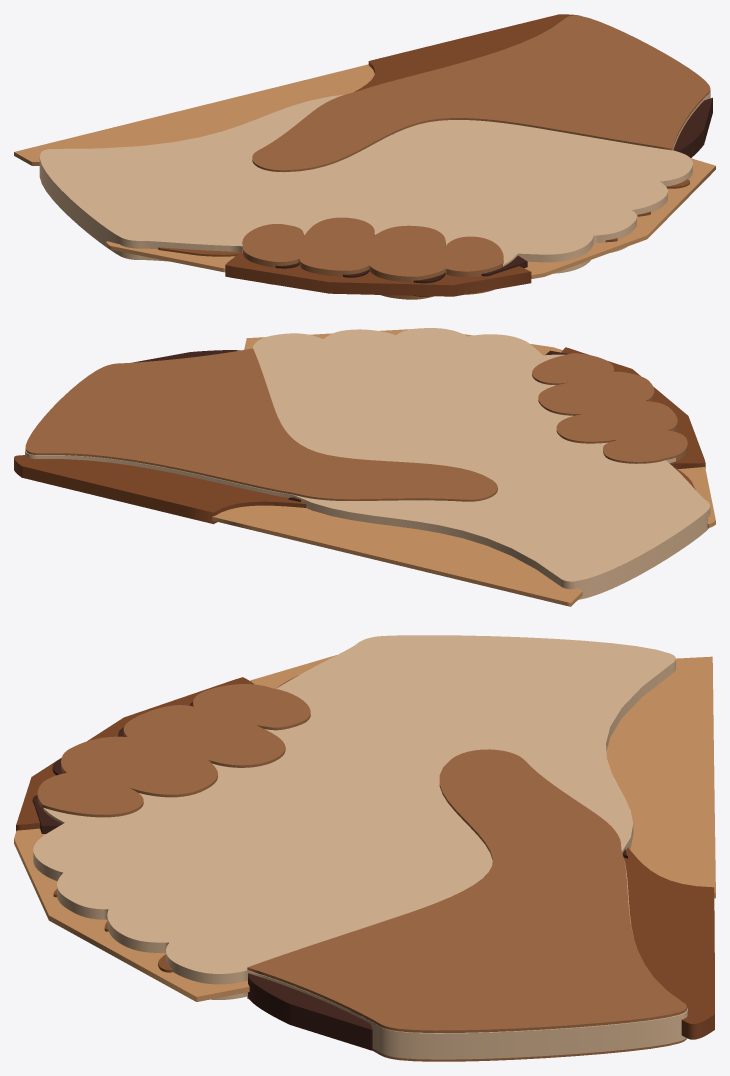
Rendered from emoji_u1faf1_1f3fc_200d_1faf2_1f3fe.glb.
3 renders of one model, top to bottom at view 1: azimuth 30°, elevation 25°; view 2: azimuth 150°, elevation 25°; view 3: azimuth 270°, elevation 25°, orthographic. The views are drawn at different scales.
Parts seen in each view (by area): view 1: emoji_u1faf1_1f3fc_200d_1faf2_1f3fe; view 2: emoji_u1faf1_1f3fc_200d_1faf2_1f3fe; view 3: emoji_u1faf1_1f3fc_200d_1faf2_1f3fe.
Part boxes in pixels (x1=…): emoji_u1faf1_1f3fc_200d_1faf2_1f3fe: x1=14, y1=14, x2=715, y2=299; emoji_u1faf1_1f3fc_200d_1faf2_1f3fe: x1=14, y1=328, x2=715, y2=606; emoji_u1faf1_1f3fc_200d_1faf2_1f3fe: x1=14, y1=635, x2=715, y2=1061.
Size of the model in its own units: 0.0332 by 0.0012 by 0.0244.
